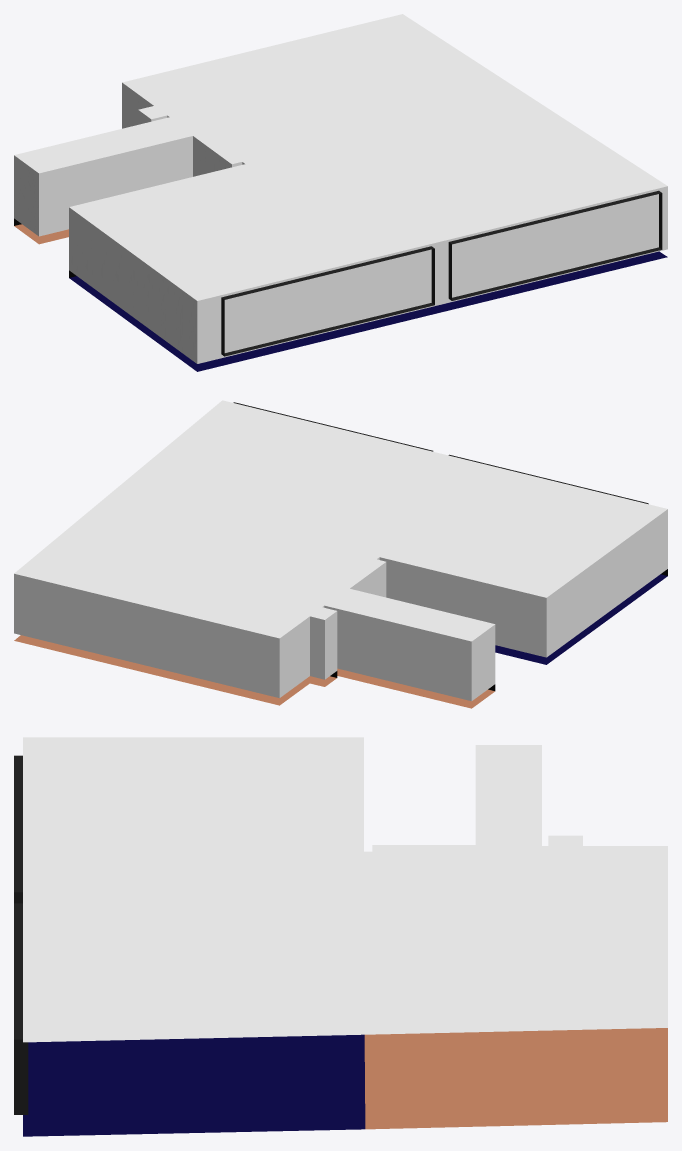
Rendered from Floor7Room.fbx.
3 renders of one model, top to bottom at view 1: azimuth 30°, elevation 25°; view 2: azimuth 150°, elevation 25°; view 3: azimuth 270°, elevation 25°, orthographic. The views are drawn at different scales.
Visible parts, largest first — view 1: Floor7; view 2: Floor7; view 3: Floor7.
Boxes of the visible parts, x1,y1,x2,y2 form: Floor7: (14, 14, 667, 371); Floor7: (14, 400, 667, 708); Floor7: (14, 737, 667, 1136).
Bounding box in the file's own units: 8908 × 1283 × 8068.
